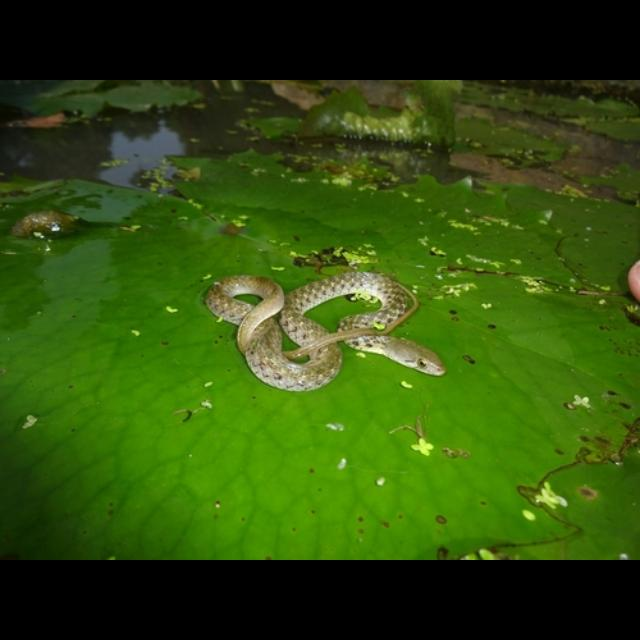snake: (207, 264, 445, 391)
